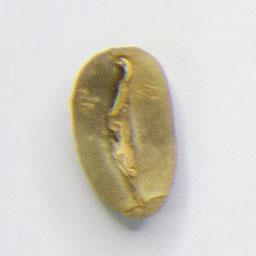longberry: (67, 42, 180, 222)
